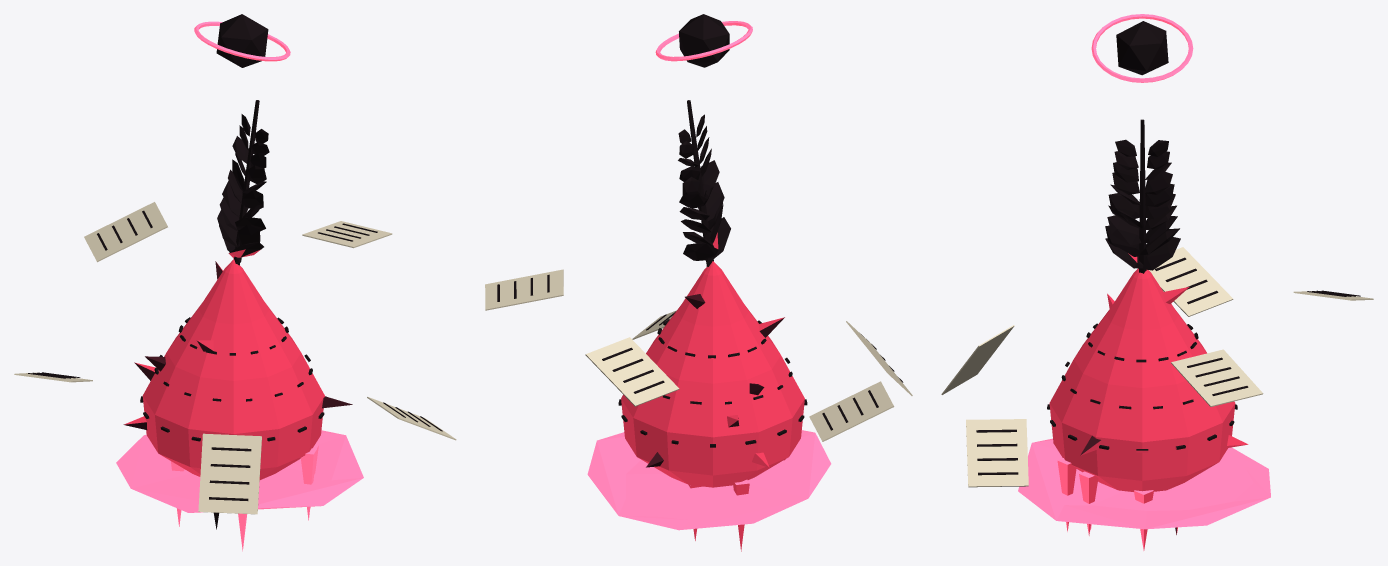
Rendered from fruto-fim.glb.
3 renders of one model, left to right at view 1: azimuth 30°, elevation 25°; view 2: azimuth 150°, elevation 25°; view 3: azimuth 270°, elevation 25°, orthographic.
Parts seen in each view (by area): view 1: Fruit_Body; view 2: Fruit_Body; view 3: Fruit_Body.
Part boxes in pixels (bbox=[...]): Fruit_Body: bbox=[14, 14, 456, 551]; Fruit_Body: bbox=[485, 14, 912, 551]; Fruit_Body: bbox=[941, 14, 1373, 550].
Size of the model in its own units: 2.28 by 2.86 by 2.14.
